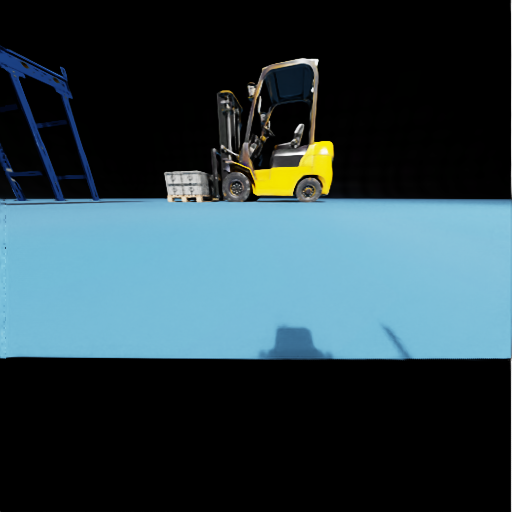transportation_area: (183, 184, 212, 194)
